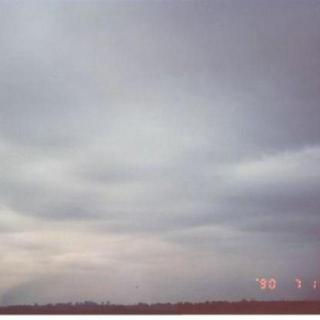Nimbostratus: (0, 0, 320, 298)
